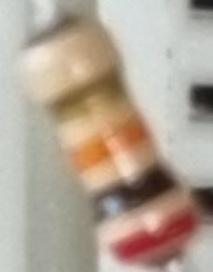Black: (91, 159, 183, 222)
Orange: (70, 112, 150, 174)
Red: (108, 209, 193, 263)
Side-Gold: (43, 64, 127, 121)
